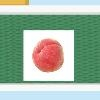raw: (30, 37, 65, 74)
